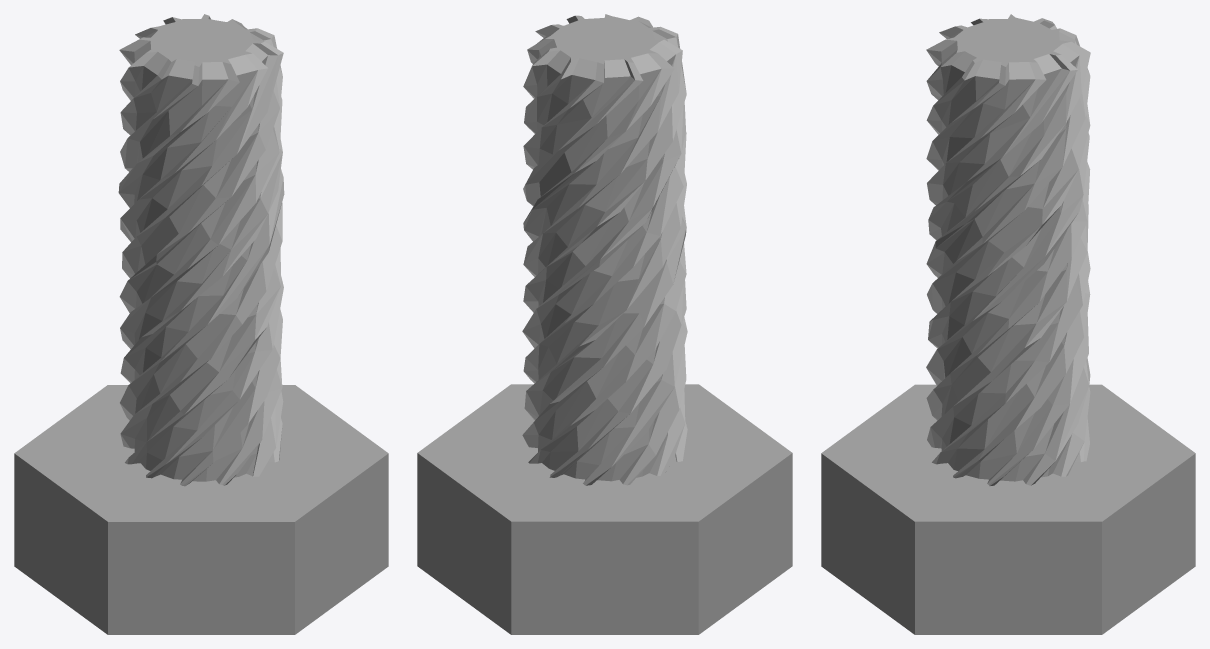
Rendered from screw.glb.
3 renders of one model, left to right at view 1: azimuth 30°, elevation 25°; view 2: azimuth 150°, elevation 25°; view 3: azimuth 270°, elevation 25°, orthographic.
Parts seen in each view (by area): view 1: Cylinder.002; view 2: Cylinder.002; view 3: Cylinder.002.
Part boxes in pixels (<box>): Cylinder.002: <box>14,14,388,634</box>; Cylinder.002: <box>417,14,792,634</box>; Cylinder.002: <box>821,14,1195,634</box>.
Bounding box in the file's own units: 0.7233 × 1.29 × 0.8352.
Materials: 1 (1 with a texture image).
